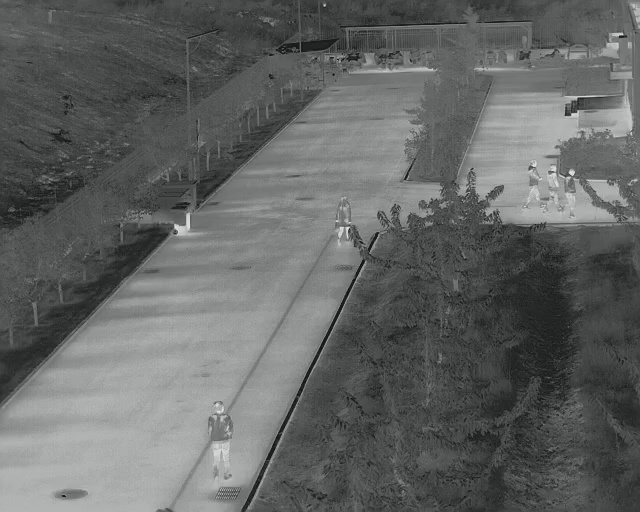person: (206, 399, 234, 484), (523, 158, 546, 212), (543, 162, 565, 214), (334, 194, 352, 246), (564, 167, 577, 218)
